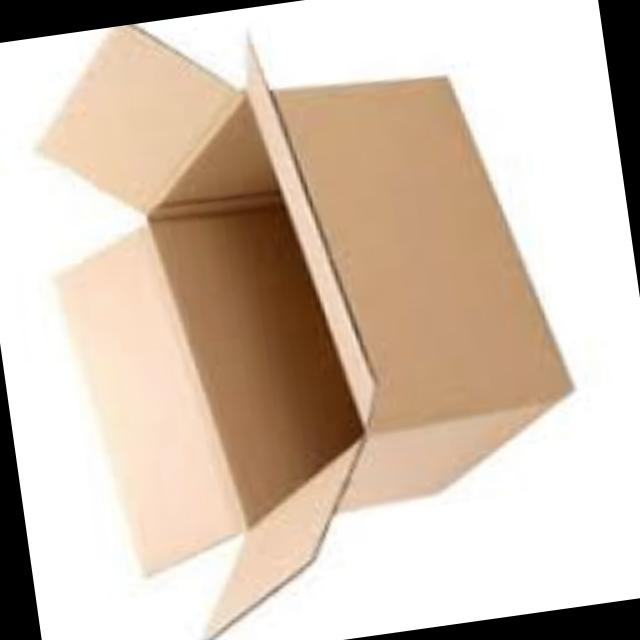cardboard paper: (38, 25, 565, 640), (37, 25, 272, 213)
